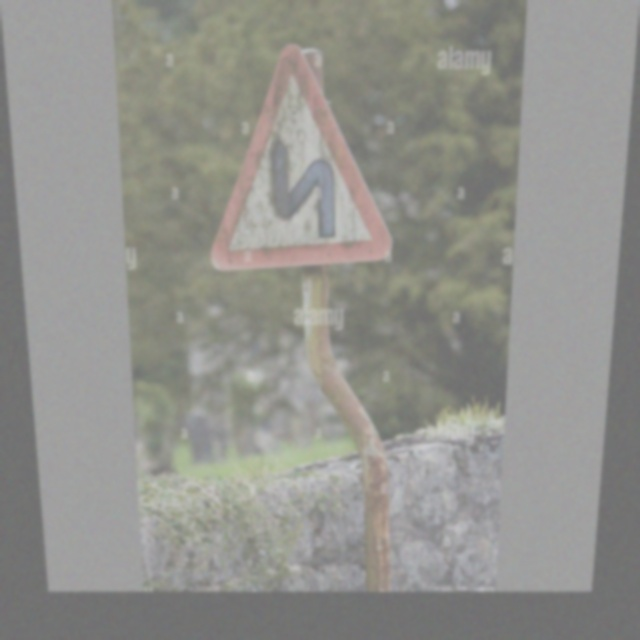Left_Reverse_Bend: (203, 44, 400, 267)
